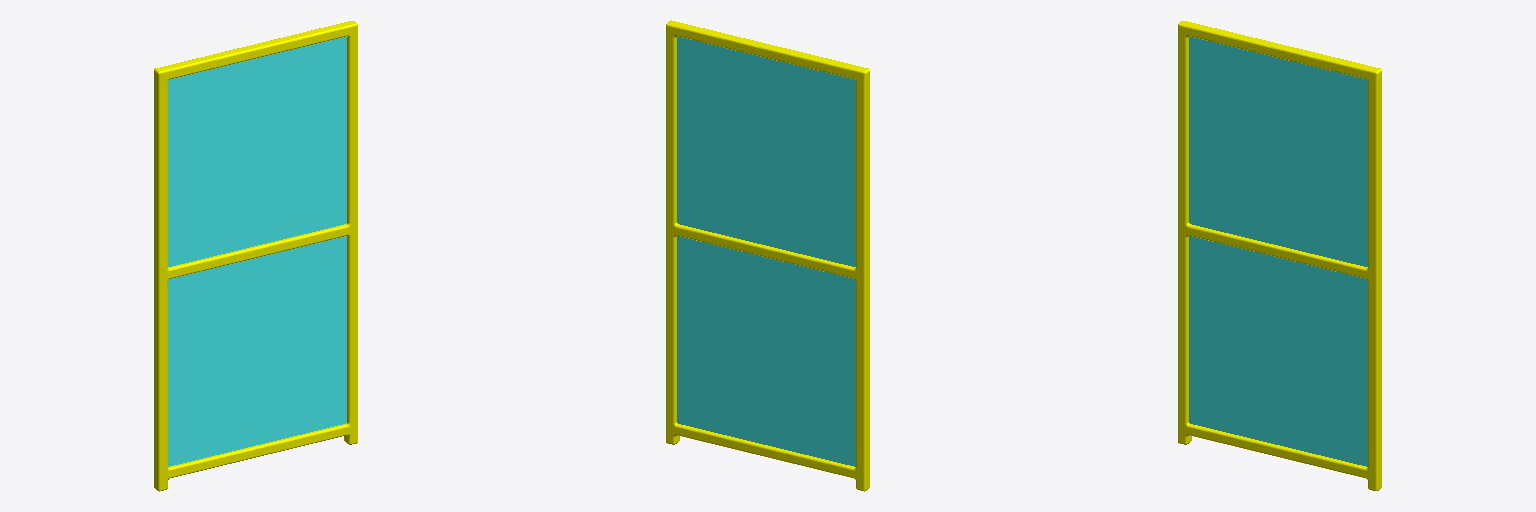
The robot description file, URDF, robot "panel_2m_1m_solid":
<?xml version="1.0" encoding="utf-8"?>
<!-- =================================================================================== -->
<!-- |    This document was autogenerated by xacro from panel_2m_1m_solid.xacro        | -->
<!-- |    EDITING THIS FILE BY HAND IS NOT RECOMMENDED                                 | -->
<!-- =================================================================================== -->
<robot name="panel_2m_1m_solid">
  <!-- link list -->
  <link name="base_link">
    <visual>
      <origin rpy="0 0 0" xyz="0 0 0"/>
      <geometry>
        <mesh filename="package://twc_support/CAD/fence/panel_2m_1m_solid/urdf/visual/base_link.dae"/>
      </geometry>
    </visual>
    <collision>
      <origin rpy="0 0 0" xyz="0 0 0"/>
      <geometry>
        <mesh filename="package://twc_support/CAD/fence/panel_2m_1m_solid/urdf/visual/base_link.dae"/>
      </geometry>
    </collision>
  </link>
  <link name="tool0"/>
  <joint name="joint_1" type="fixed">
    <origin rpy="0 0 0" xyz="1.0 0 0"/>
    <parent link="base_link"/>
    <child link="tool0"/>
  </joint>
</robot>

--- What the picture shows (computed from the rendered views, not written in the file) ---
Views: 3 orthographic renders of the robot side by side, from view 1: azimuth 30°, elevation 25°; view 2: azimuth 150°, elevation 25°; view 3: azimuth 330°, elevation 25°.
Robot: panel_2m_1m_solid — 2 links, 1 joints (1 fixed); root link base_link; default pose: every joint at zero.
Links seen in each view (by area): view 1: base_link; view 2: base_link; view 3: base_link.
Boxes of the visible links, x1,y1,x2,y2 form: base_link: (154,21,357,491); base_link: (666,20,869,491); base_link: (1178,21,1381,490).
Size in the robot's own frame: 1 by 0.05 by 2 metres.
1 mesh visuals loaded from 1 distinct referenced files (1 Collada DAE).